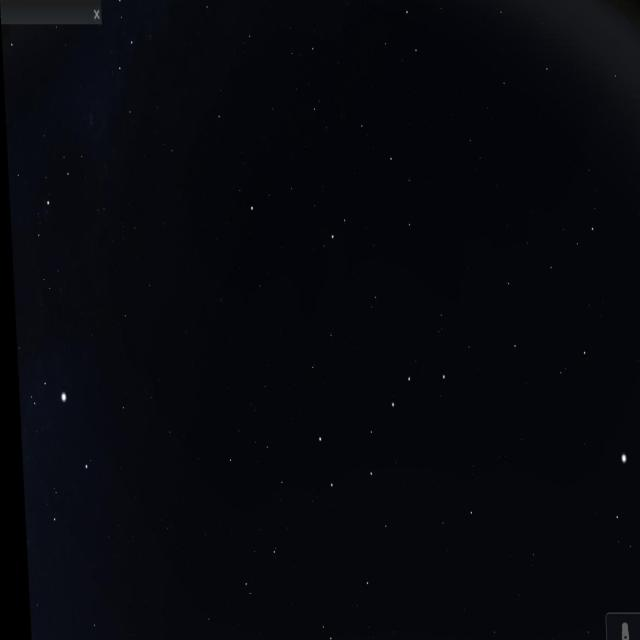cassiopeia: (96, 0, 170, 138)
ursa_major: (304, 358, 450, 504)
